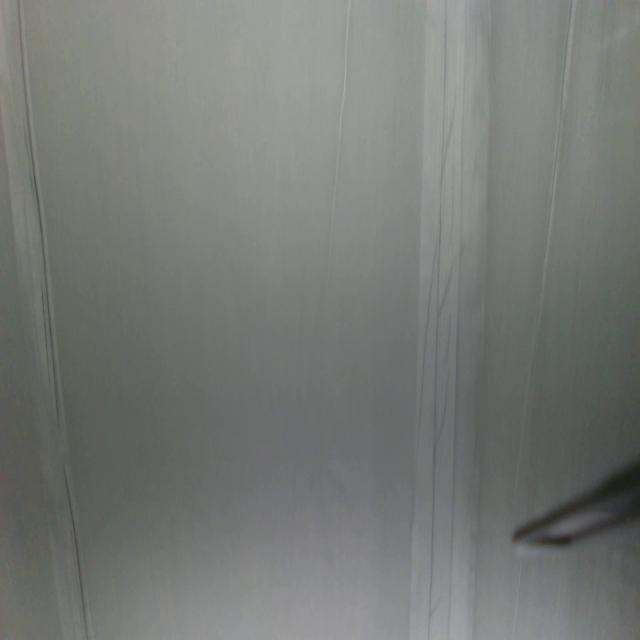crease: (0, 2, 94, 638), (411, 0, 487, 639), (510, 0, 580, 488), (320, 2, 356, 296)
